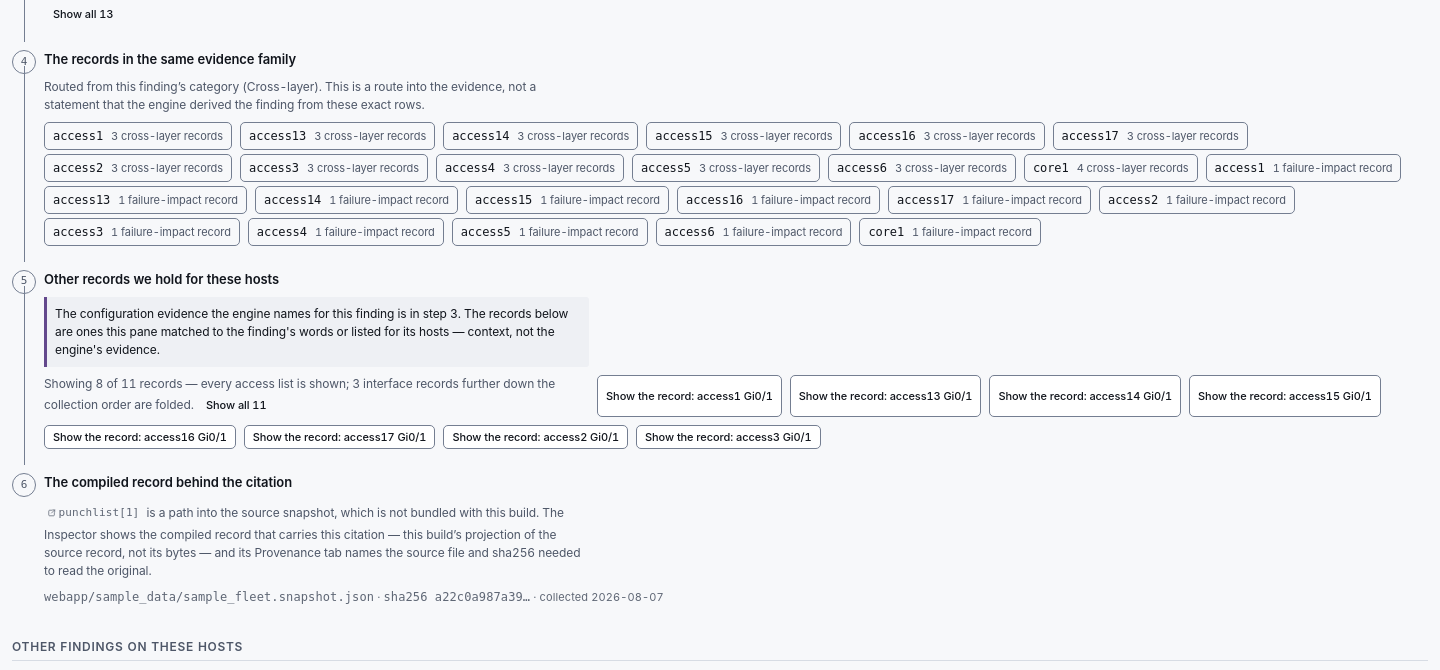
Test: step 5's context record list › the cap is reversible: 'Show all' reveals every record
This screenshot has width=1440, height=670.
(page scrolled)
Click the button "Show all 11".
click(236, 405)  # box x1=197 y1=393 x2=275 y2=417
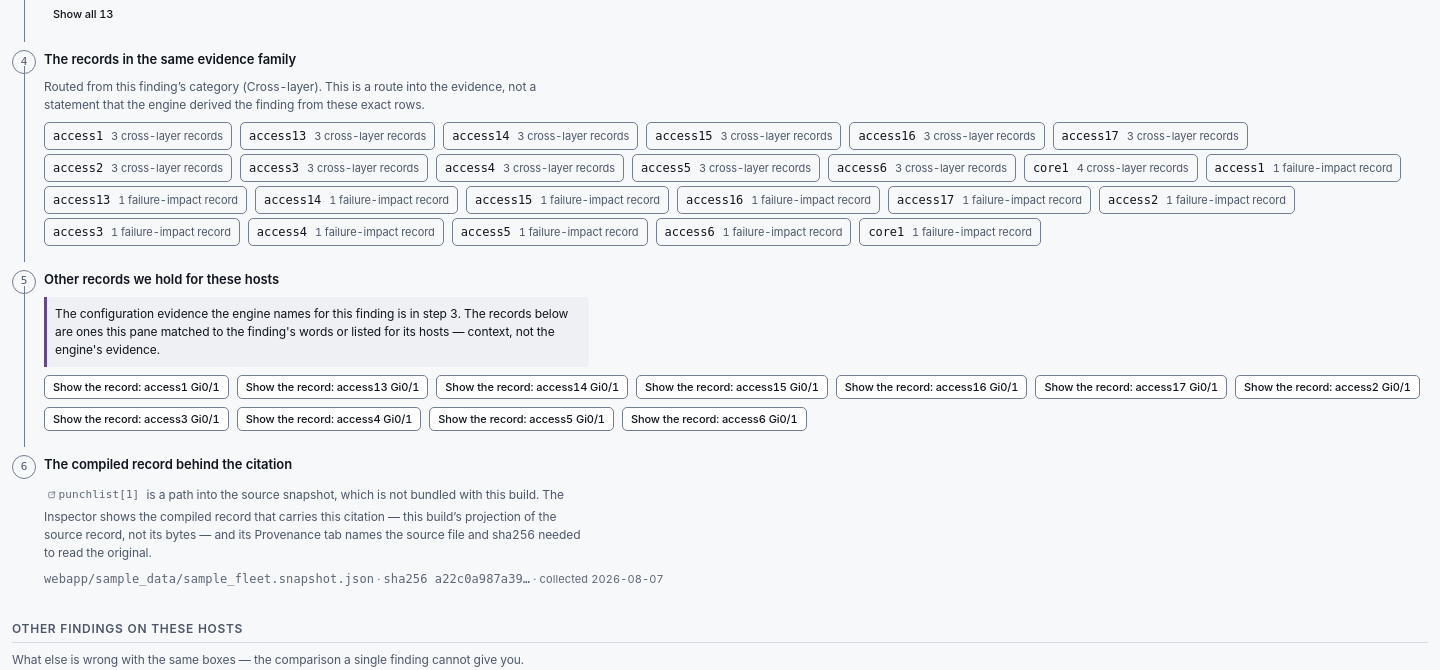
Expected: the element with class "ev-cfgactions__cap" is gone
